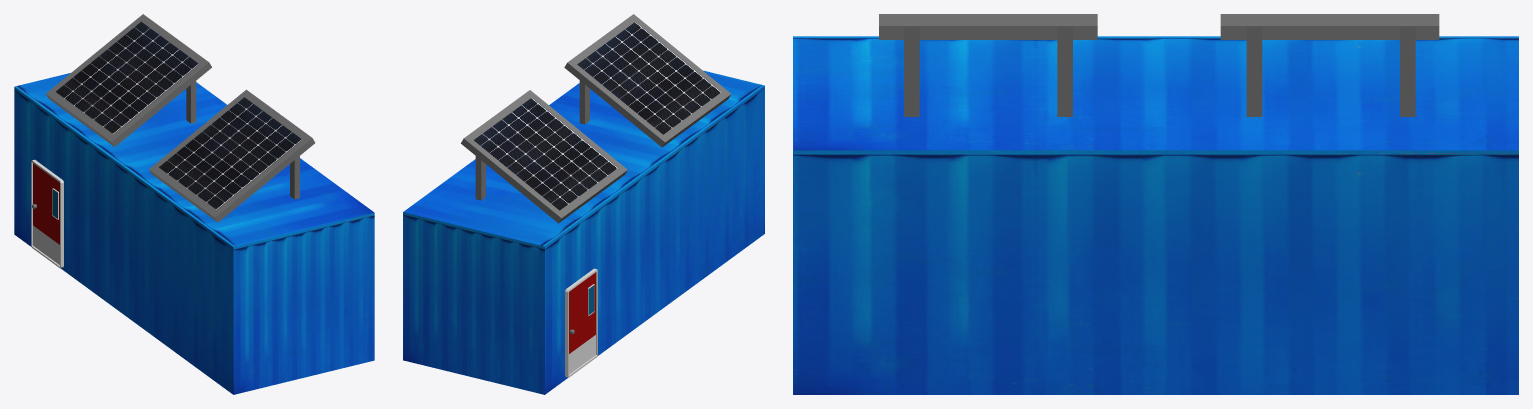
Rendered from Container_House_1.fbx.
3 renders of one model, left to right at view 1: azimuth 30°, elevation 25°; view 2: azimuth 150°, elevation 25°; view 3: azimuth 270°, elevation 25°, orthographic. The views are drawn at different scales.
Parts seen in each view (by area): view 1: Cube.085; view 2: Cube.085; view 3: Cube.085.
Boxes of the visible parts, box(x1,y1,x2,y2) form: Cube.085: box(14, 14, 374, 394); Cube.085: box(403, 14, 764, 394); Cube.085: box(793, 14, 1518, 394).
Bounding box in the file's own units: 446 × 618 × 1156.
